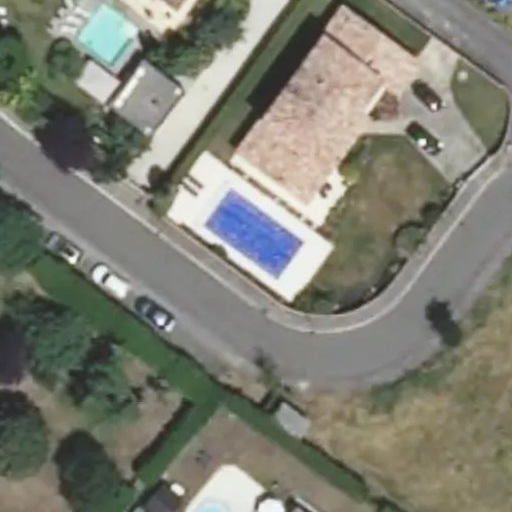pool: (204, 233, 307, 250)
